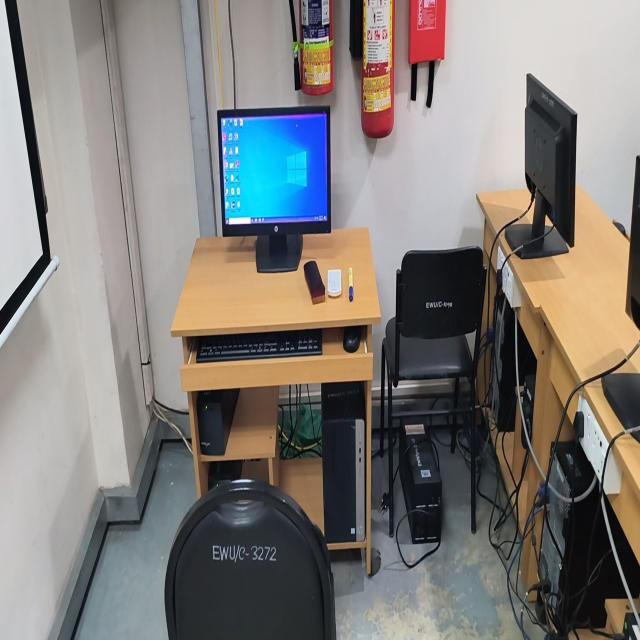Chair: (165, 480, 336, 639), (381, 247, 486, 420)
Cpu: (538, 441, 626, 629), (321, 382, 366, 544), (493, 284, 536, 431), (605, 496, 640, 597)
Fire Extinguisher: (361, 0, 395, 138), (298, 0, 333, 95)
Keyboard: (196, 329, 321, 363)
Monitor: (217, 107, 331, 273), (510, 74, 577, 258), (601, 373, 640, 443), (626, 155, 640, 329)
Mouse: (343, 326, 362, 353)
